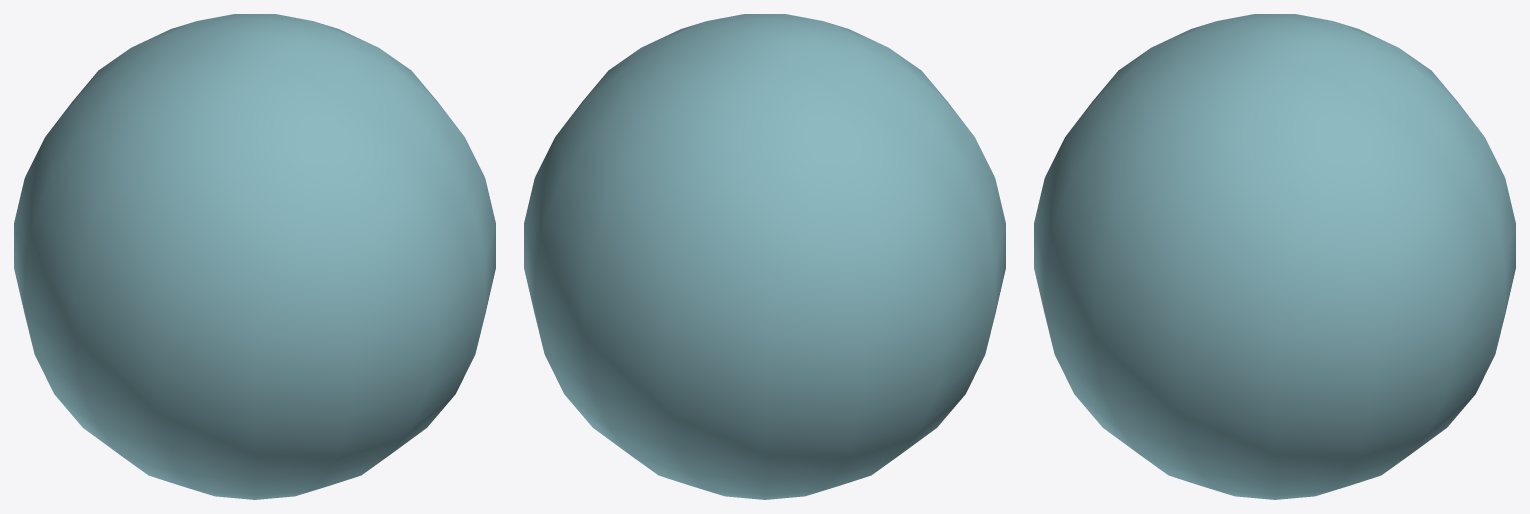
File: koa.fbx
The picture shows the model from 3 angles, left to right: view 1: azimuth 30°, elevation 25°; view 2: azimuth 150°, elevation 25°; view 3: azimuth 270°, elevation 25°; orthographic projection.
Parts seen in each view (by area): view 1: pSphere1; view 2: pSphere1; view 3: pSphere1.
Part boxes in pixels (box(x1,y1,x2,y2)): pSphere1: box(14, 14, 495, 499); pSphere1: box(524, 14, 1005, 499); pSphere1: box(1034, 14, 1515, 499).
Bounding box in the file's own units: 3.93 × 4 × 3.96.
